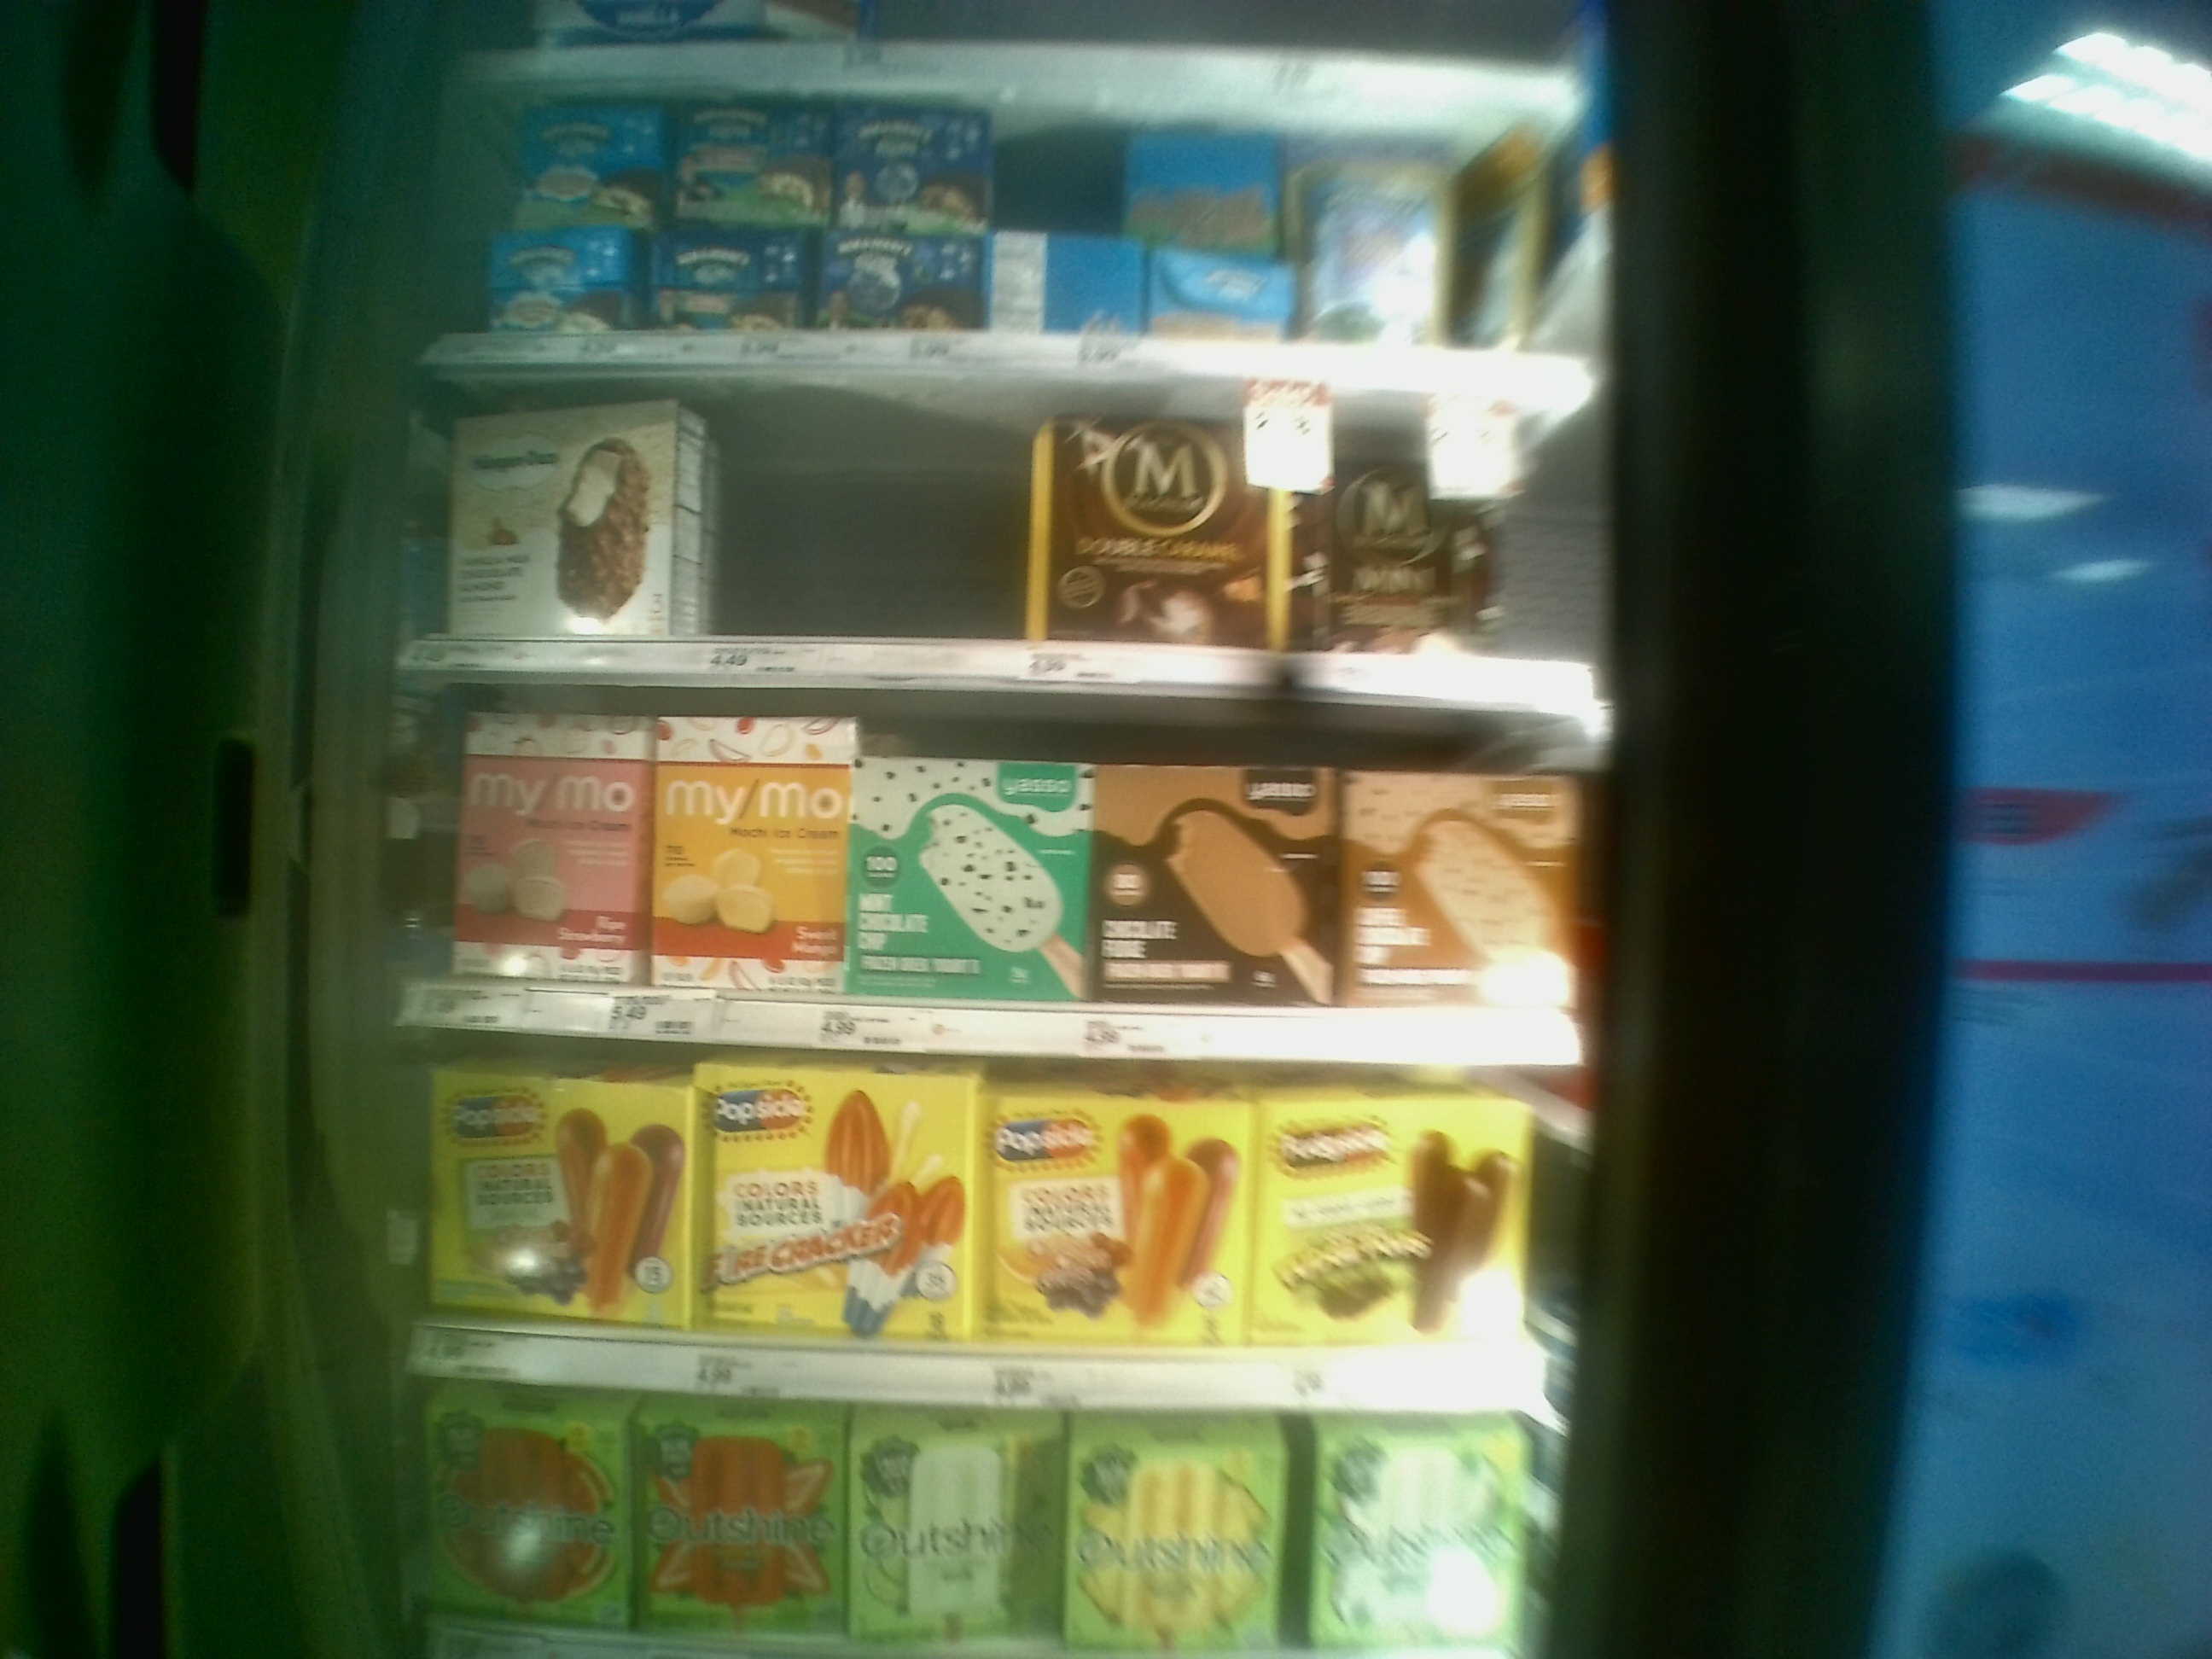ice-cream-shelf: (399, 664, 1599, 1054), (399, 1044, 1561, 1413)
